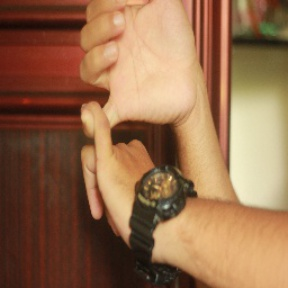S: (68, 2, 203, 232)
